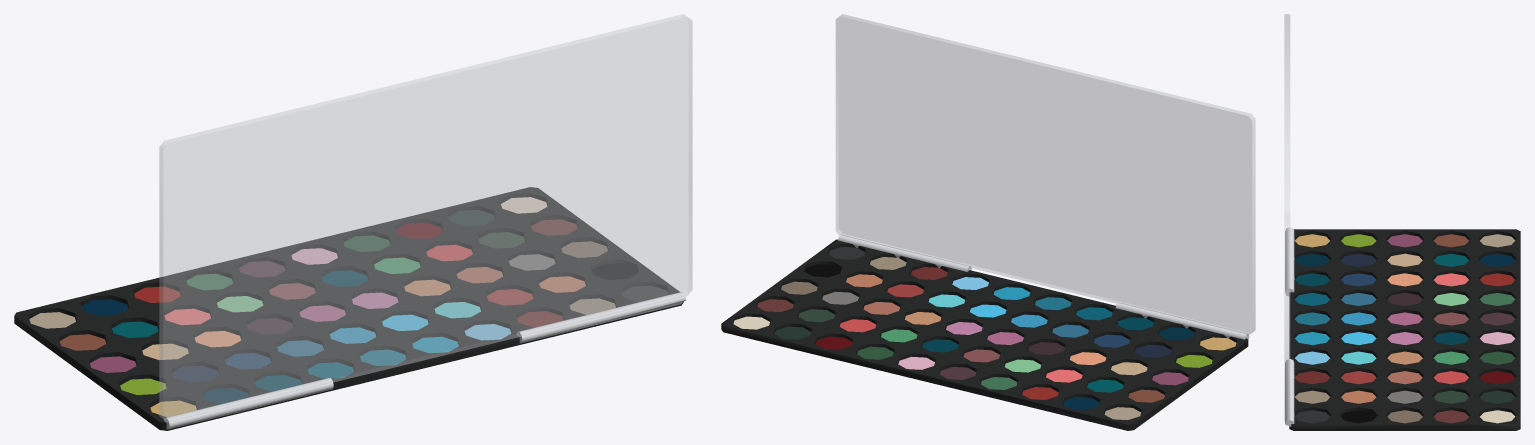
File: make_up_pallete_open_007.fbx
3 views of the same model, side by side, from view 1: azimuth 30°, elevation 25°; view 2: azimuth 150°, elevation 25°; view 3: azimuth 270°, elevation 25° (orthographic). The views are drawn at different scales.
Visible parts, largest first — view 1: make up_pallete_open.007; view 2: make up_pallete_open.007; view 3: make up_pallete_open.007.
Part boxes in pixels (box(x1,y1,x2,y2)): make up_pallete_open.007: box(14, 14, 692, 430); make up_pallete_open.007: box(721, 14, 1255, 430); make up_pallete_open.007: box(1284, 14, 1520, 430).
Size of the model in its own units: 4643 by 2434 by 2348.
2 materials, 2 textured.
